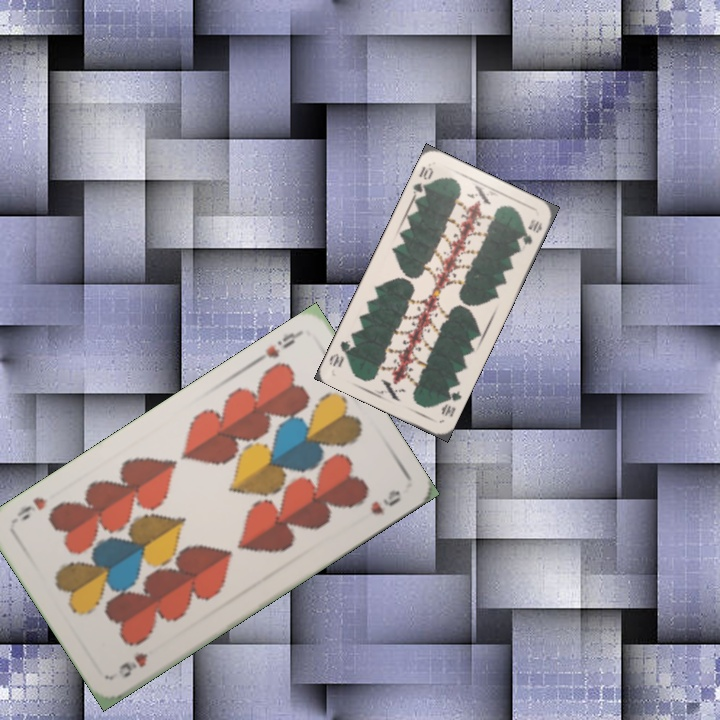G10: (409, 162, 436, 201), (437, 386, 464, 419)
H9: (252, 326, 305, 365), (114, 648, 151, 680)
